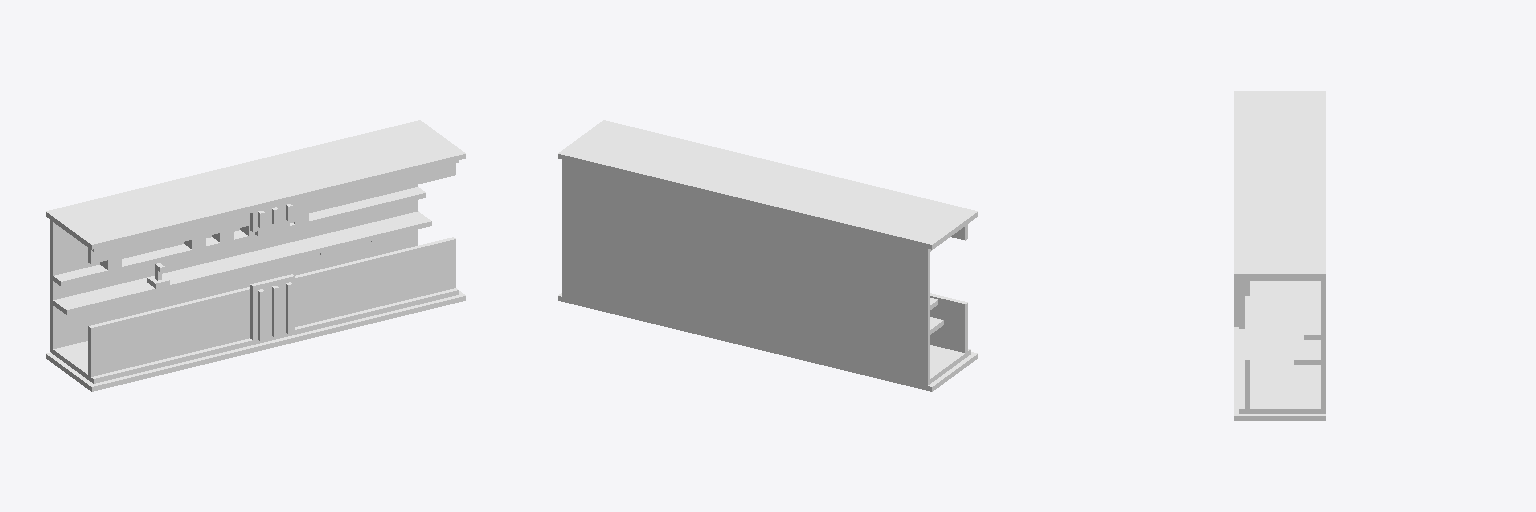
File: largerbar.obj
3 views of the same model, side by side, from view 1: azimuth 30°, elevation 25°; view 2: azimuth 150°, elevation 25°; view 3: azimuth 270°, elevation 25° (orthographic).
Parts seen in each view (by area): view 1: object 1; view 2: object 1; view 3: object 1.
Boxes of the visible parts, box(x1,y1,x2,y2) form: object 1: box(46, 120, 465, 391); object 1: box(558, 120, 977, 391); object 1: box(1234, 91, 1325, 420).
Bounding box in the file's own units: 8 × 3 × 1.7.